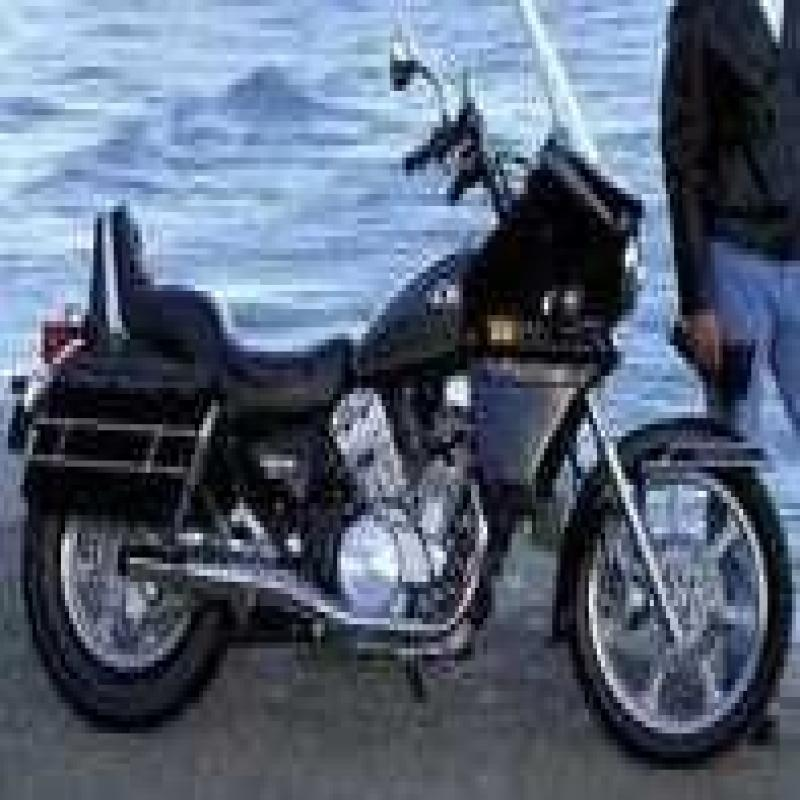bike: (10, 51, 796, 773)
